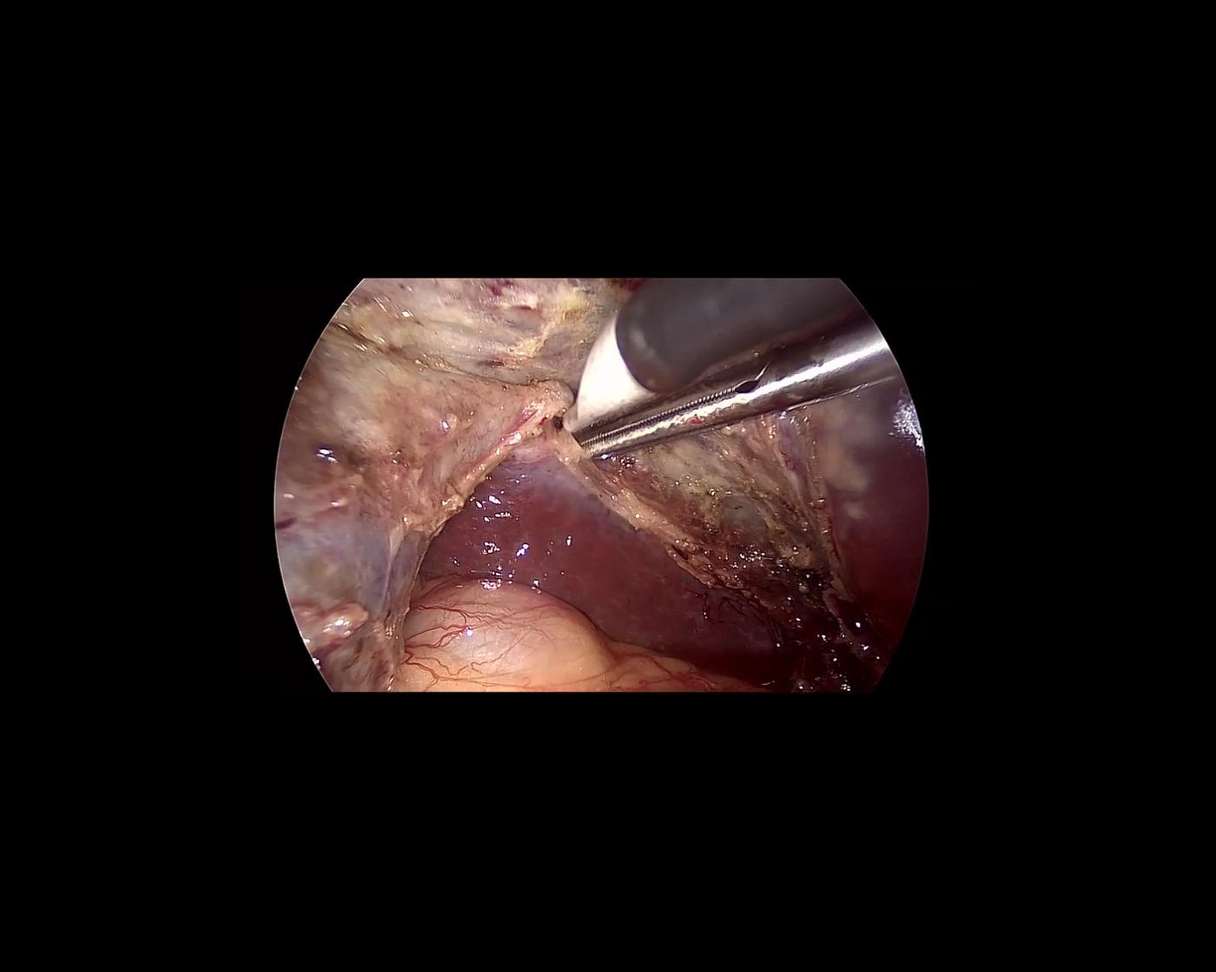Cautery: (515, 206, 863, 439)
Forceps: (564, 306, 909, 462)
Gallbladder: (190, 303, 554, 725)
Liver: (415, 426, 810, 685), (813, 386, 949, 664)
